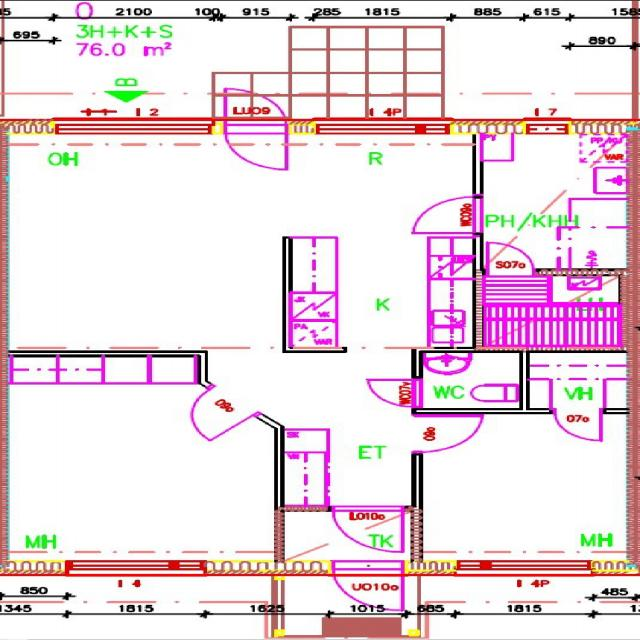door: (164, 386, 258, 442), (335, 560, 403, 614), (333, 506, 401, 552), (225, 118, 285, 170), (225, 82, 285, 134), (411, 415, 484, 452), (415, 197, 483, 233), (554, 408, 602, 441), (365, 379, 422, 406), (487, 242, 532, 275)
